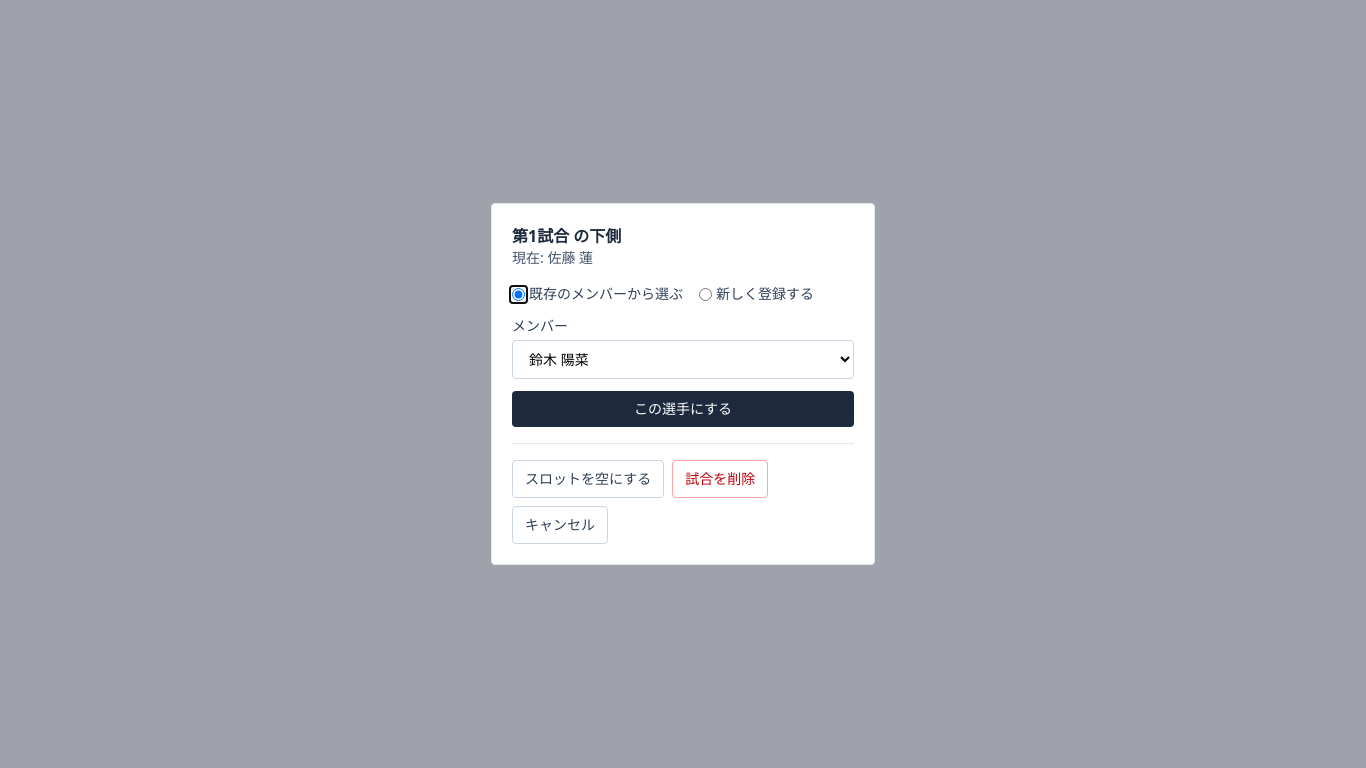
Test: SlotEditDialog › 前の操作のエラーではなく、最後に送った操作のエラーを出す
Click the button "この選手にする": [683, 409] box [512, 391, 854, 427]
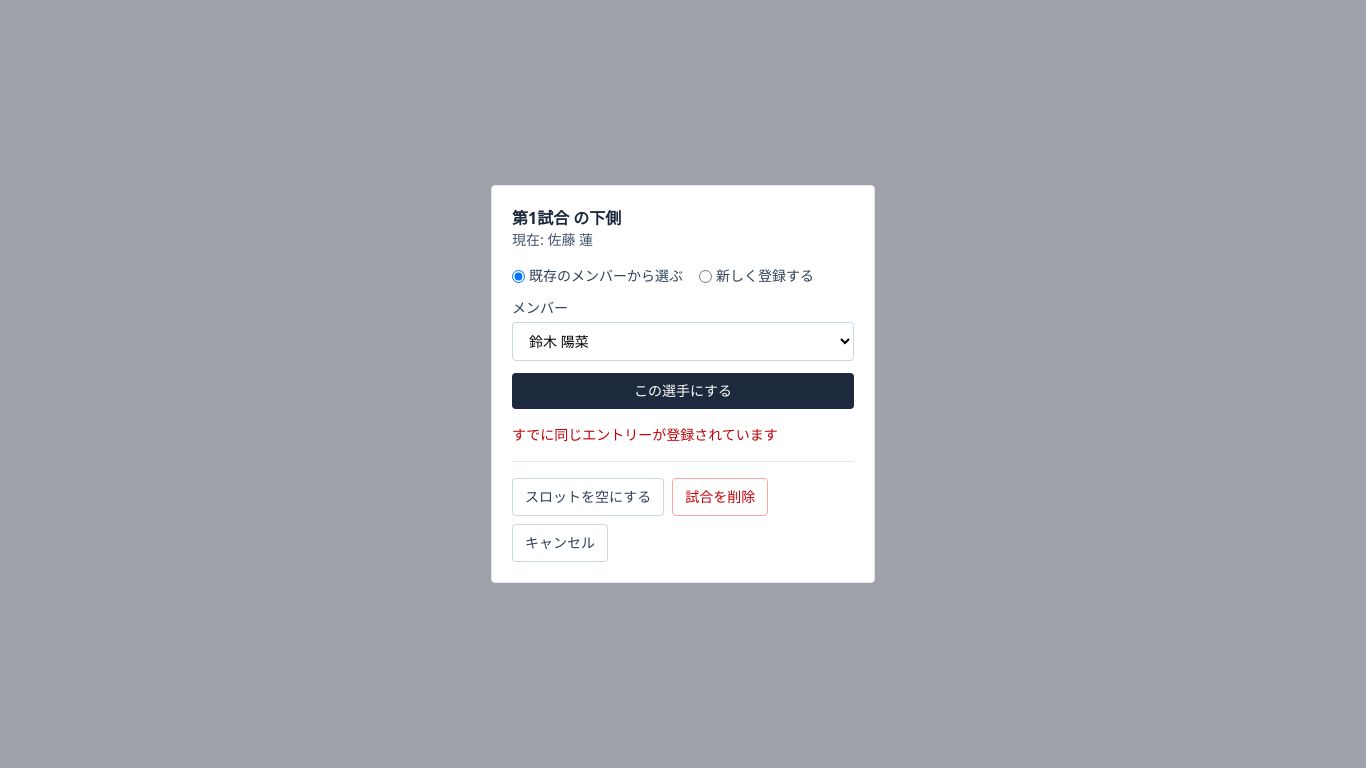
Expected: the message reads "すでに同じエントリーが登録されています", [512, 425, 778, 444]
Click the button "スロットを空にする": [588, 497] box [512, 478, 664, 516]
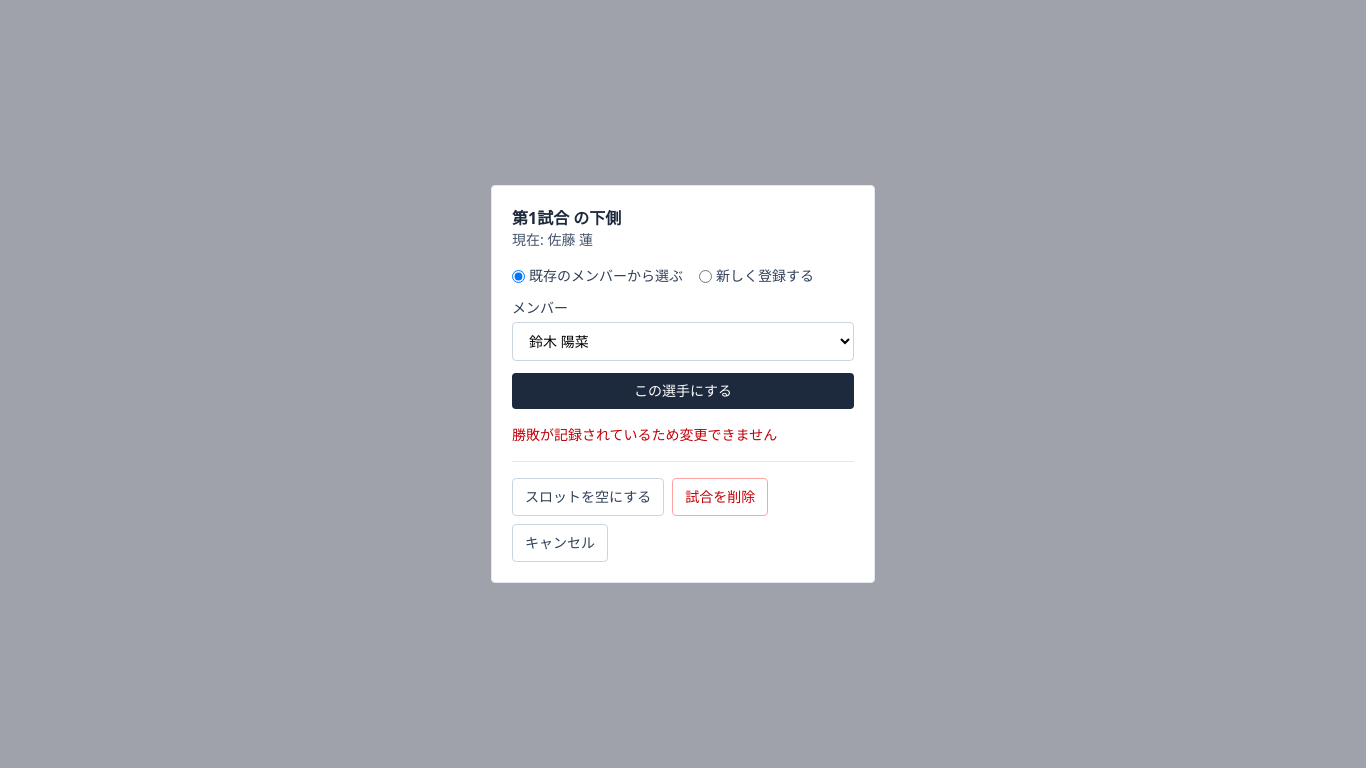
Expected: the message reads "勝敗が記録されているため変更できません", [512, 425, 777, 444]
